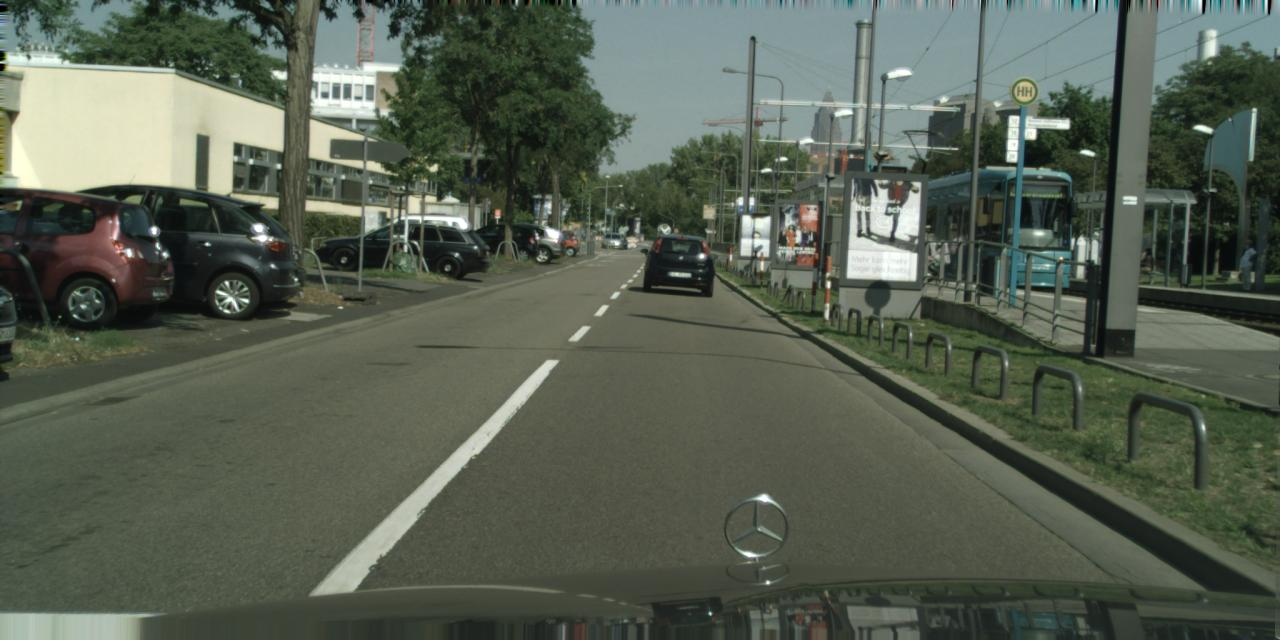ped: (1237, 239, 1259, 292), (918, 224, 938, 276)
